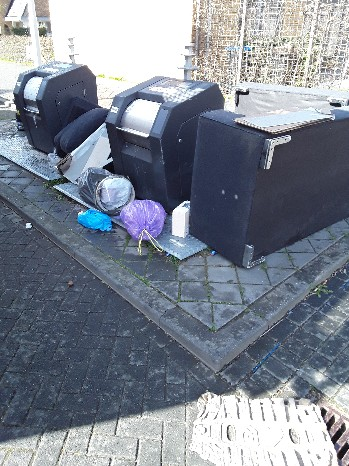Container: (123, 76, 219, 216), (20, 67, 84, 142)
Rest: (192, 100, 347, 273), (108, 191, 184, 277), (64, 102, 103, 182), (84, 164, 122, 211)
